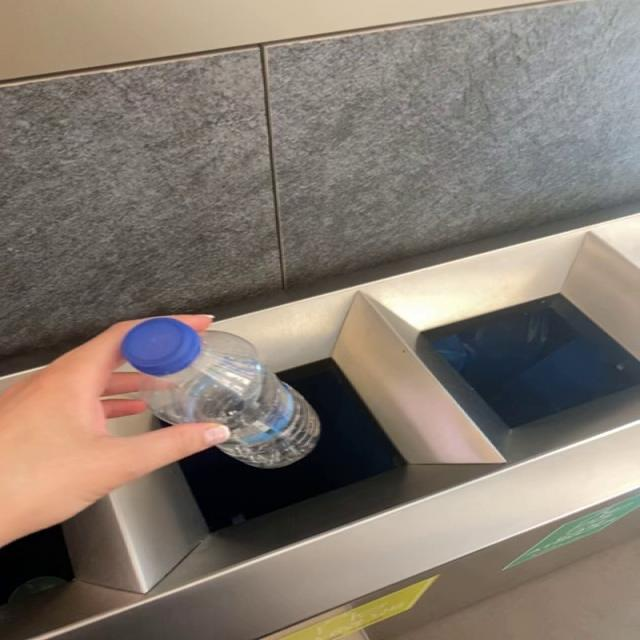plastic: (120, 317, 320, 470)
